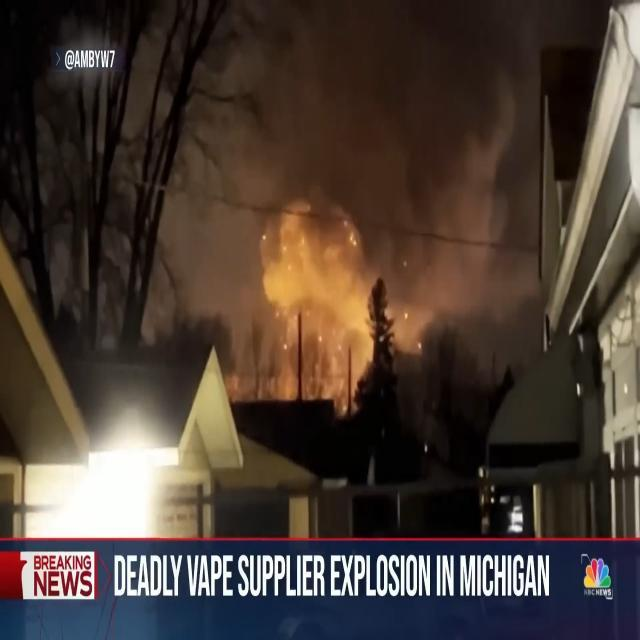fire: (236, 200, 428, 423)
